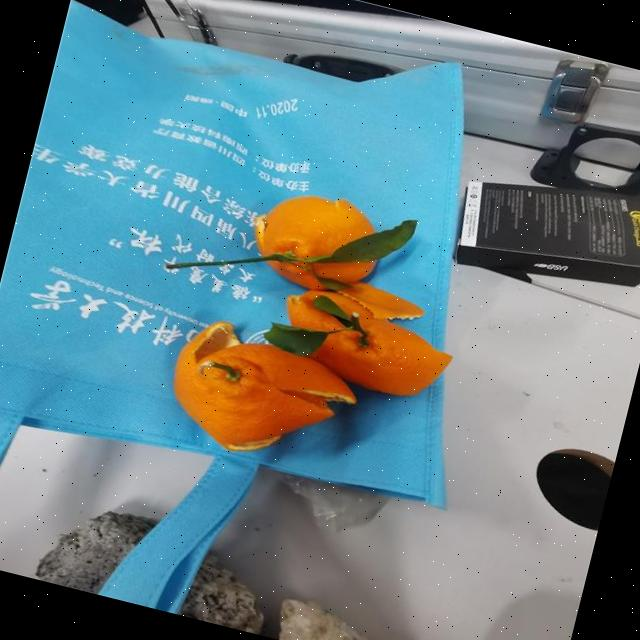orange-peel: (154, 166, 483, 496), (157, 310, 367, 477), (242, 178, 389, 302)
